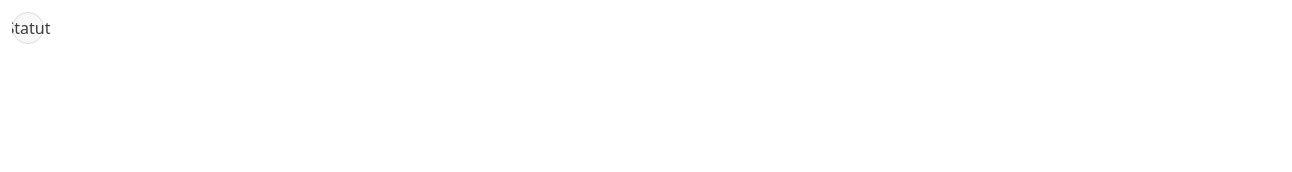
Scenario: Menu › closes on an outside click and on Escape
Click the button "Statut" at (28, 28), box x1=12 y1=12 x2=44 y2=44
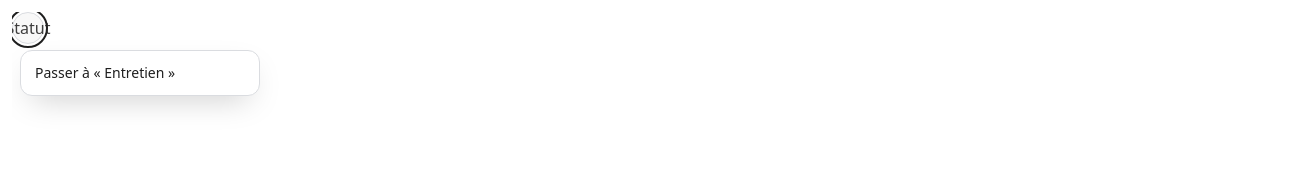
Click the element showing "Statut Passer à « Entretien »" at (652, 28), box x1=12 y1=12 x2=1291 y2=44
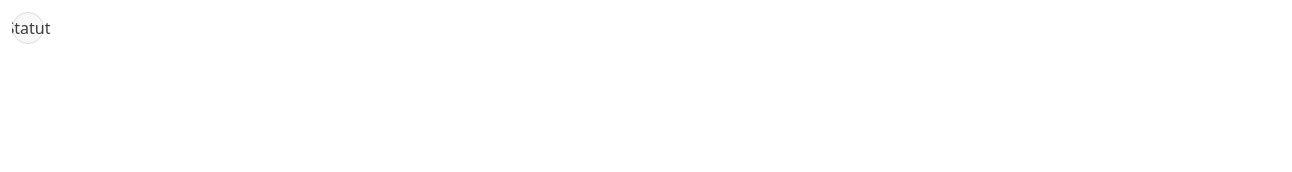
Result: the menu is gone
Click the button "Statut" at (28, 28), box x1=12 y1=12 x2=44 y2=44
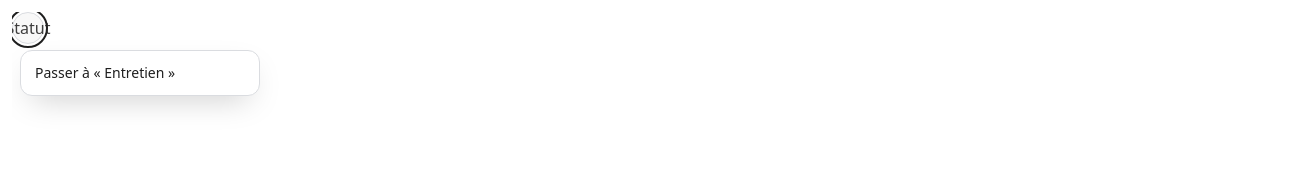
Press Escape
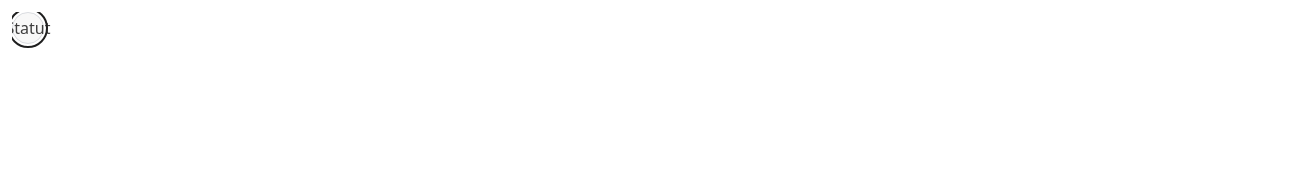
Result: the menu is gone
